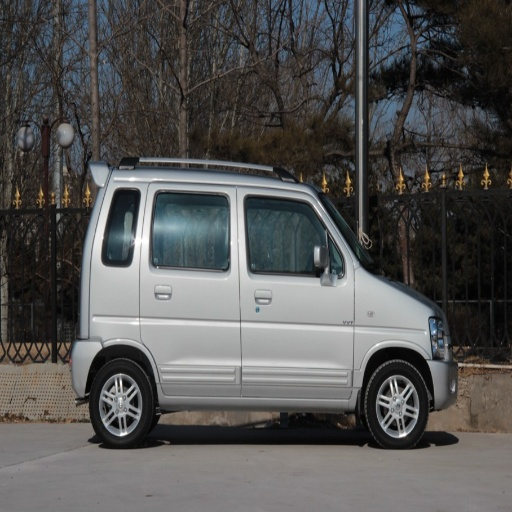front_right_door: (238, 187, 354, 398)
